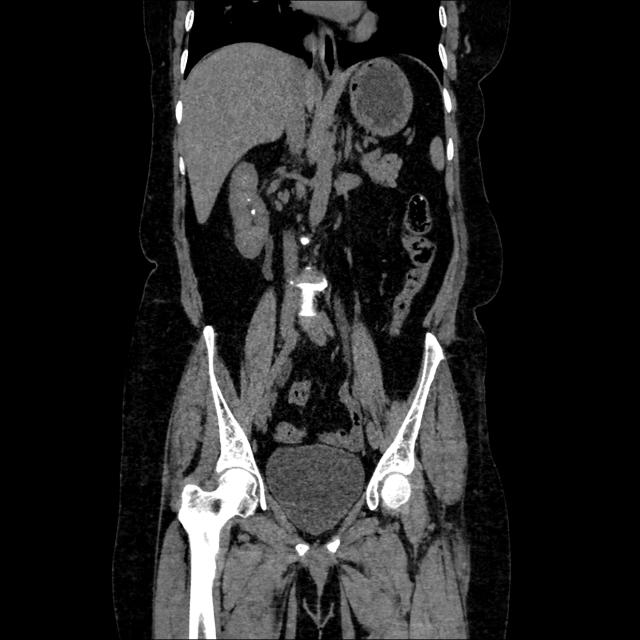kidney: (228, 160, 271, 260)
stone: (252, 205, 257, 217)
